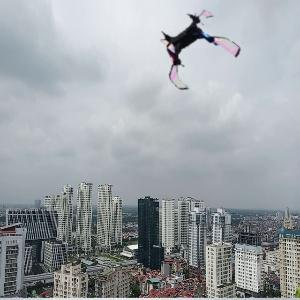drone: (153, 10, 237, 94)
